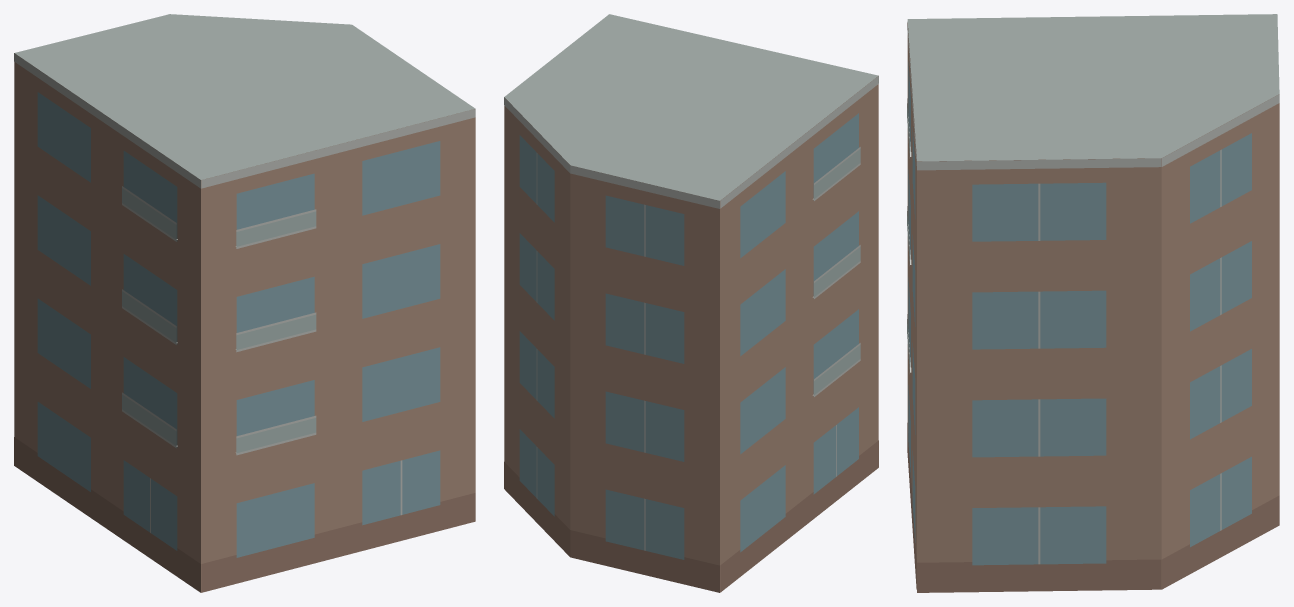
The model's file is survey-upis-32978294.glb.
3 renders of one model, left to right at view 1: azimuth 30°, elevation 25°; view 2: azimuth 150°, elevation 25°; view 3: azimuth 270°, elevation 25°, orthographic. The views are drawn at different scales.
Visible parts, largest first — view 1: survey-upis-32978294.tmp; view 2: survey-upis-32978294.tmp; view 3: survey-upis-32978294.tmp.
Part boxes in pixels (<box>): survey-upis-32978294.tmp: <box>14,14,475,592</box>; survey-upis-32978294.tmp: <box>504,14,878,592</box>; survey-upis-32978294.tmp: <box>907,14,1279,592</box>.
Bounding box in the file's own units: 8.58 × 11.7 × 9.16.
